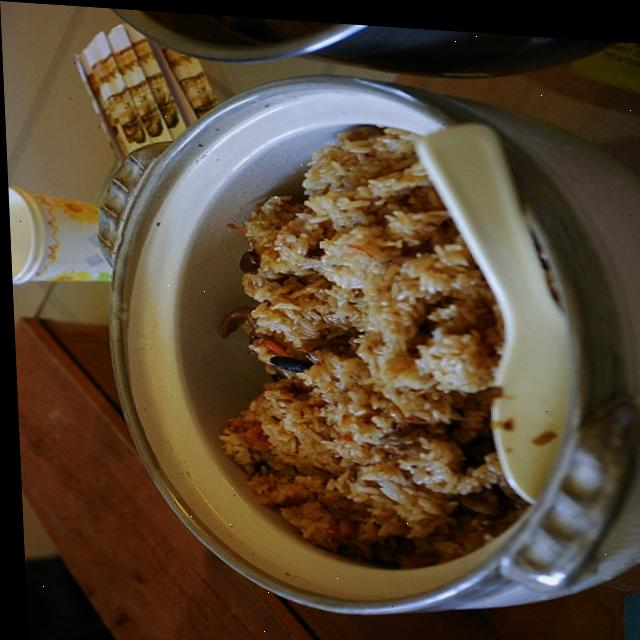米饭主食: (98, 51, 578, 609)
